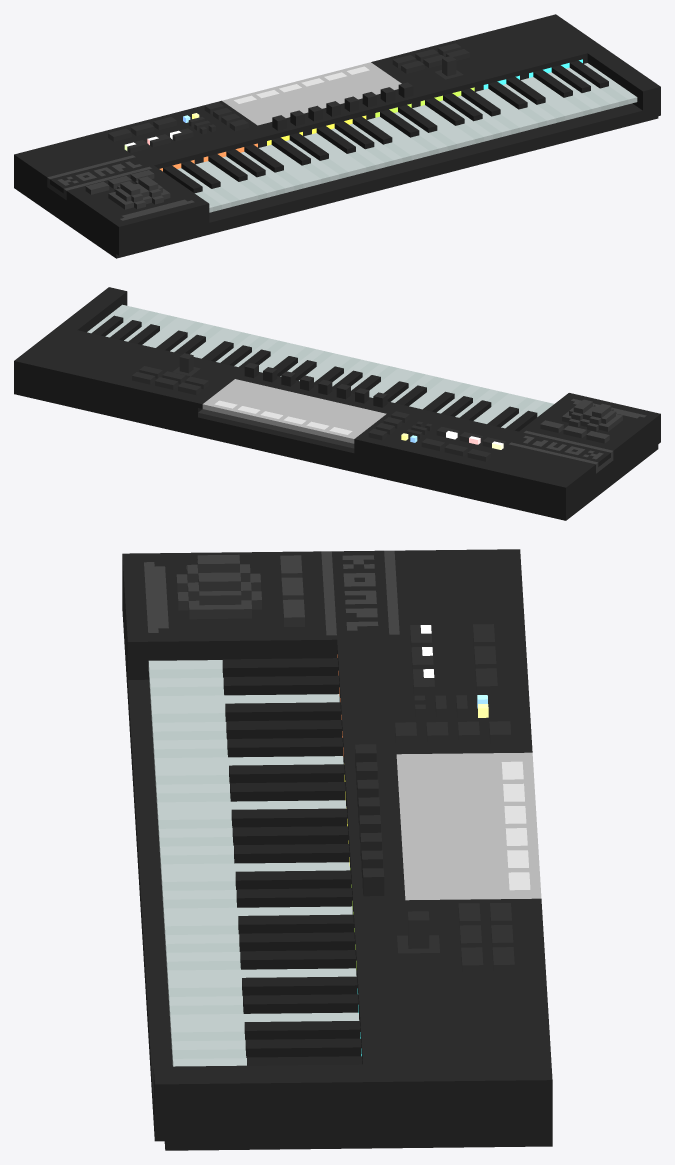
Rendered from piano_0_lev1_lev3.glb.
3 renders of one model, top to bottom at view 1: azimuth 30°, elevation 25°; view 2: azimuth 150°, elevation 25°; view 3: azimuth 270°, elevation 25°, orthographic. The views are drawn at different scales.
Visible parts, largest first — view 1: piano_0_lev1_lev3; view 2: piano_0_lev1_lev3; view 3: piano_0_lev1_lev3.
Boxes of the visible parts, <box> form: piano_0_lev1_lev3: <box>14,14,660,258</box>; piano_0_lev1_lev3: <box>14,287,660,520</box>; piano_0_lev1_lev3: <box>122,549,552,1150</box>.
Bounding box in the file's own units: 2.25 × 0.1858 × 0.7633.
1 material, 1 textured.
